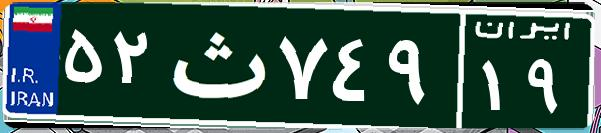1: (475, 38, 525, 113)
2: (110, 28, 158, 105)
4: (330, 28, 385, 110)
5: (57, 26, 110, 107)
7: (273, 28, 330, 110)
9: (385, 28, 445, 110), (525, 38, 570, 115)
ث: (158, 15, 273, 115)
